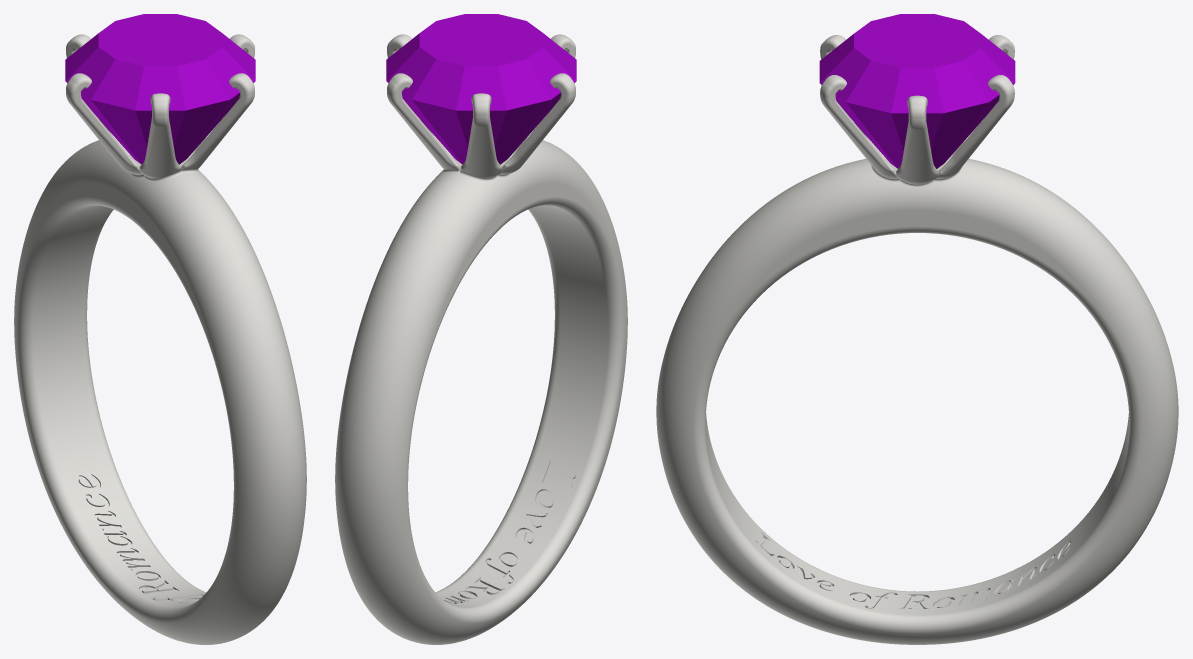
The picture shows the model from 3 angles, left to right: view 1: azimuth 30°, elevation 25°; view 2: azimuth 150°, elevation 25°; view 3: azimuth 270°, elevation 25°; orthographic projection. The views are drawn at different scales.
Visible parts, largest first — view 1: 零件1_2, Diamond_2; view 2: 零件1_2, Diamond_2; view 3: 零件1_2, Diamond_2.
Part boxes in pixels (<box>): 零件1_2: <box>14,34,306,644</box>; Diamond_2: <box>65,14,255,164</box>; 零件1_2: <box>335,34,627,644</box>; Diamond_2: <box>386,14,576,164</box>; 零件1_2: <box>656,35,1178,644</box>; Diamond_2: <box>819,14,1015,168</box>.
Size of the model in its own units: 0.0096 by 0.0289 by 0.0228.
